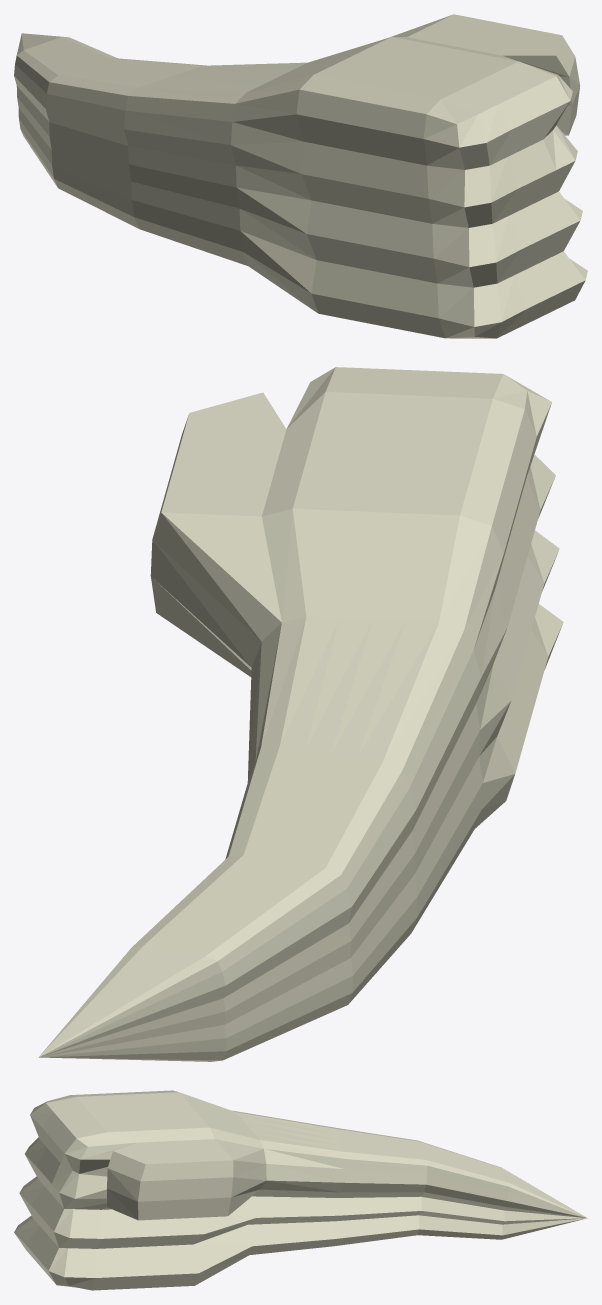
File: hand.fbx
3 views of the same model, one above another, from view 1: azimuth 30°, elevation 25°; view 2: azimuth 150°, elevation 25°; view 3: azimuth 270°, elevation 25° (orthographic). The views are drawn at different scales.
Visible parts, largest first — view 1: pCube1; view 2: pCube1; view 3: pCube1.
Boxes of the visible parts, x1,y1,x2,y2 form: pCube1: (14, 14, 587, 338); pCube1: (38, 367, 563, 1061); pCube1: (14, 1090, 587, 1290).
Bounding box in the file's own units: 12 × 8.67 × 26.62.
